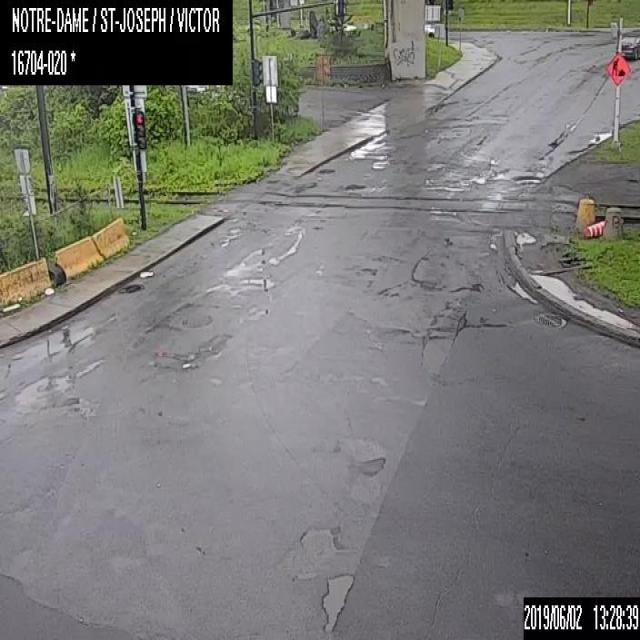construction: (606, 52, 630, 85), (583, 220, 605, 236)
vehicle: (616, 26, 639, 58), (422, 23, 434, 33)
